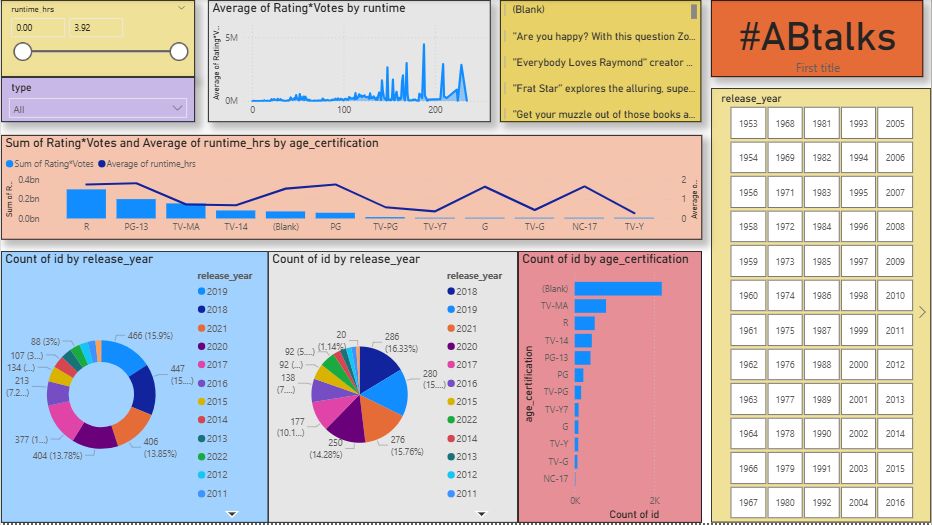

Layout of this report page (visuals, bound fields, positions):
{"tool":"powerbi","page":{"name":"Netflix Dashboard","canvas":[1280,720],"ordinal":0},"visuals":[{"type":"slicer","fields":{"Values":["Netflix TV Shows and Movies.runtime_hrs"]},"box":[0,0,266.5,106],"z":0},{"type":"slicer","fields":{"Values":["Netflix TV Shows and Movies.release_year"]},"box":[976.7,121.1,302.8,598.1],"z":1000},{"type":"slicer","fields":{"Values":["Netflix TV Shows and Movies.type"]},"box":[0,106,266.5,62.1],"z":2000},{"type":"donutChart","fields":{"Category":["Netflix TV Shows and Movies.release_year"],"Y":["Netflix TV Shows and Movies.id"]},"box":[0,345.2,368,374],"z":3000},{"type":"pieChart","fields":{"Category":["Netflix TV Shows and Movies.release_year"],"Y":["Netflix TV Shows and Movies.id"]},"box":[367.5,345.5,344.1,374.4],"z":4000},{"type":"areaChart","fields":{"Category":["Netflix TV Shows and Movies.runtime"],"Y":["Netflix TV Shows and Movies.Rating*Votes"]},"box":[284.7,0,389.2,168.1],"z":5000},{"type":"lineStackedColumnComboChart","fields":{"Category":["Netflix TV Shows and Movies.age_certification"],"Y":["Netflix TV Shows and Movies.Rating*Votes"],"Y2":["Netflix TV Shows and Movies.runtime_hrs"]},"box":[0,186.2,964.5,143.8],"z":6000},{"type":"clusteredBarChart","fields":{"Category":["Netflix TV Shows and Movies.age_certification"],"Y":["Netflix TV Shows and Movies.id"]},"box":[711.8,345,253.3,374.1],"z":7000},{"type":"multiRowCard","fields":{"Values":["Netflix TV Shows and Movies.description"]},"box":[687.4,0,277.1,168.1],"z":8000},{"type":"card","fields":{"Values":["Netflix TV Shows and Movies.title"]},"box":[976.7,0,292.2,106],"z":9000}]}

Visuals, with their boxes in screenshot pixels (x1, y1, x2, y2), scaled from the page's 1280x720 canvas onto the 932x525 screenshot:
slicer - Netflix TV Shows and Movies.runtime_hrs: left=0, top=0, right=194, bottom=77
slicer - Netflix TV Shows and Movies.release_year: left=711, top=88, right=931, bottom=524
slicer - Netflix TV Shows and Movies.type: left=0, top=77, right=194, bottom=123
donutChart - Netflix TV Shows and Movies.release_year x Netflix TV Shows and Movies.id: left=0, top=252, right=268, bottom=524
pieChart - Netflix TV Shows and Movies.release_year x Netflix TV Shows and Movies.id: left=268, top=252, right=518, bottom=524
areaChart - Netflix TV Shows and Movies.runtime x Netflix TV Shows and Movies.Rating*Votes: left=207, top=0, right=491, bottom=123
lineStackedColumnComboChart - Netflix TV Shows and Movies.age_certification x Netflix TV Shows and Movies.Rating*Votes: left=0, top=136, right=702, bottom=241
clusteredBarChart - Netflix TV Shows and Movies.age_certification x Netflix TV Shows and Movies.id: left=518, top=252, right=703, bottom=524
multiRowCard - Netflix TV Shows and Movies.description: left=501, top=0, right=702, bottom=123
card - Netflix TV Shows and Movies.title: left=711, top=0, right=924, bottom=77
